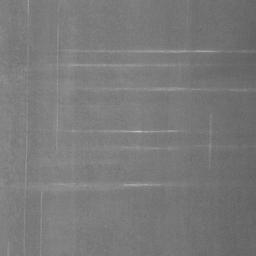Waist folding: (0, 180, 209, 193), (18, 62, 211, 72), (86, 142, 256, 152), (58, 47, 256, 55), (77, 85, 256, 93), (57, 128, 212, 135), (0, 74, 72, 84), (41, 163, 115, 168), (59, 104, 95, 106)
